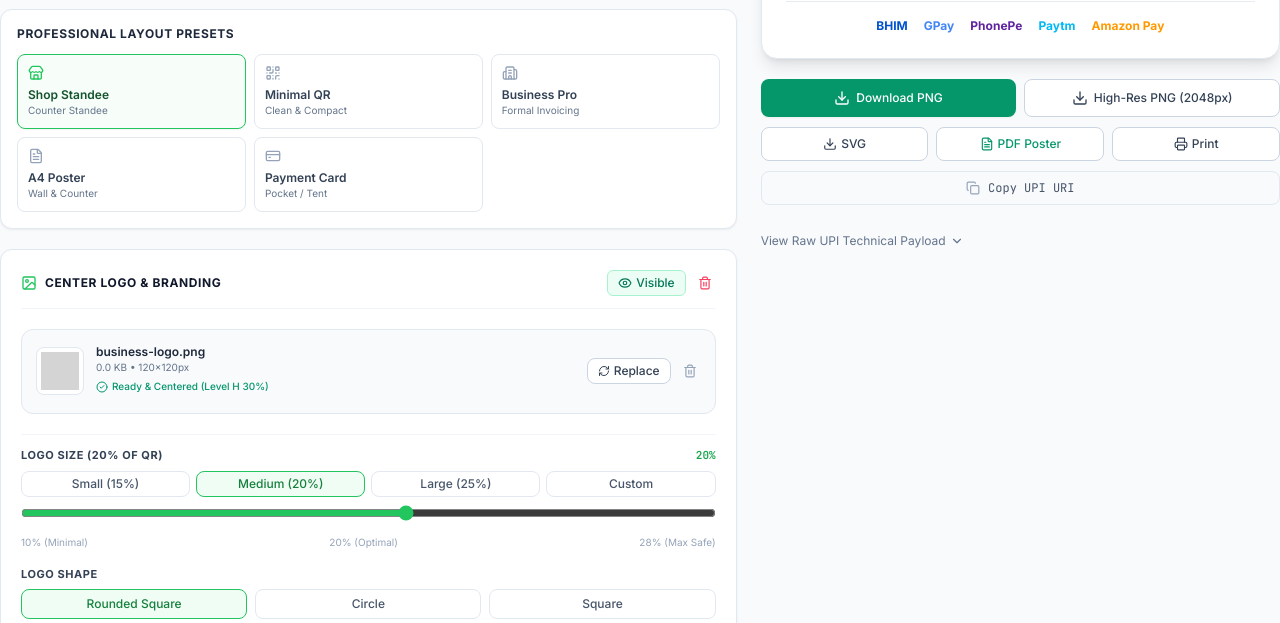
Scenario: UPI Payment QR Generator Test Suite › 10. Customer Logo Upload & Customization Controls › handles simulated image file selection and exposes rich styling controls
Earlier steps of the test are not shown.
(page scrolled)
expect the text "business-logo.png" is shown: met, box [96,344,205,359]
expect the text "Logo Size (20% of QR)" is shown: met, box [21,447,163,463]
Click the button titled "Remove logo" in the row of "Center Logo & Branding" at (705, 283), box [694,272,716,294]
(page scrolled)
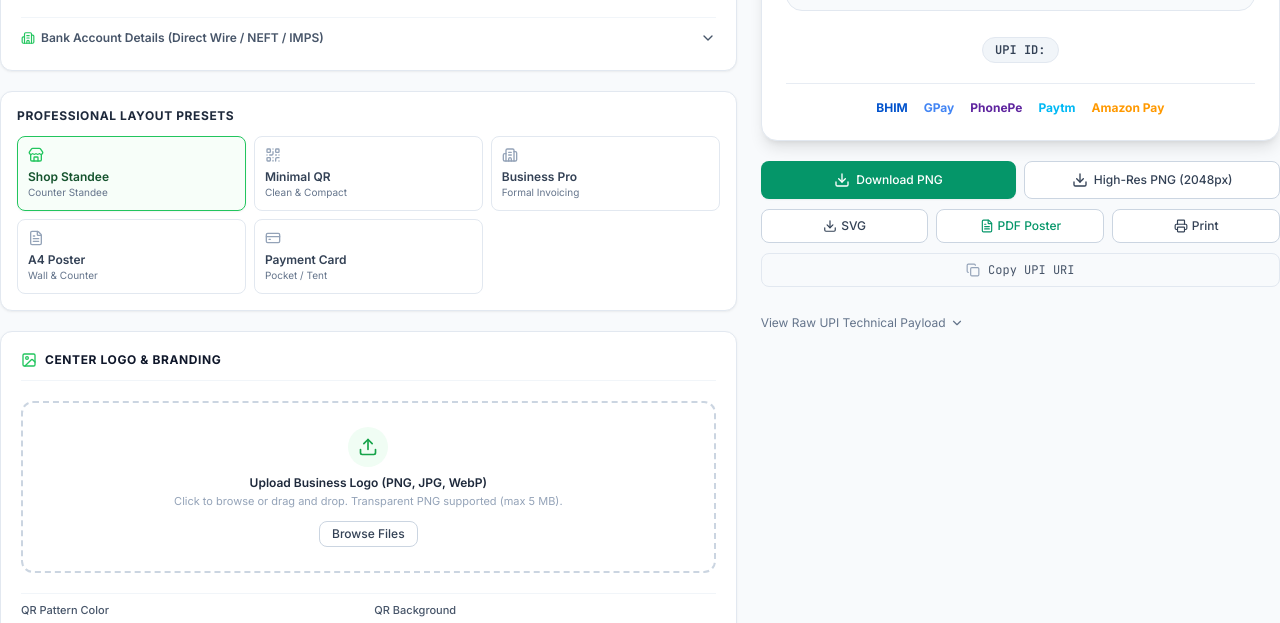
expect the text "Upload Business Logo (PNG, JPG, WebP)" is shown: met, box [250,475,487,490]
